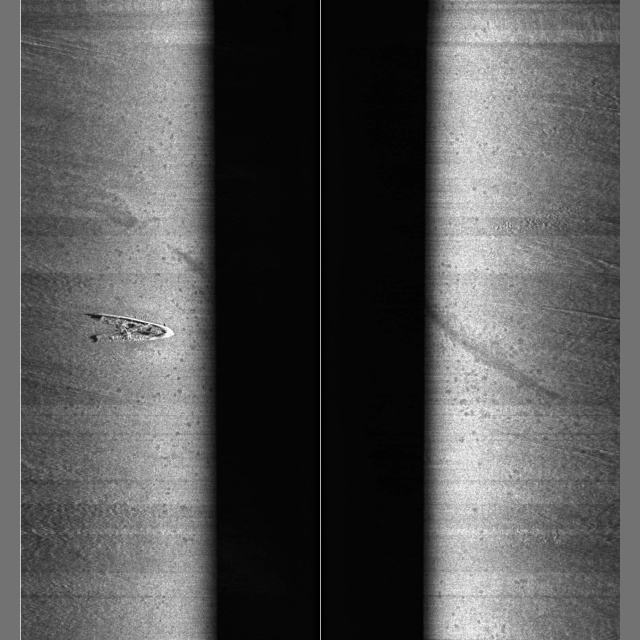Shipwreck: (95, 313, 175, 343)
